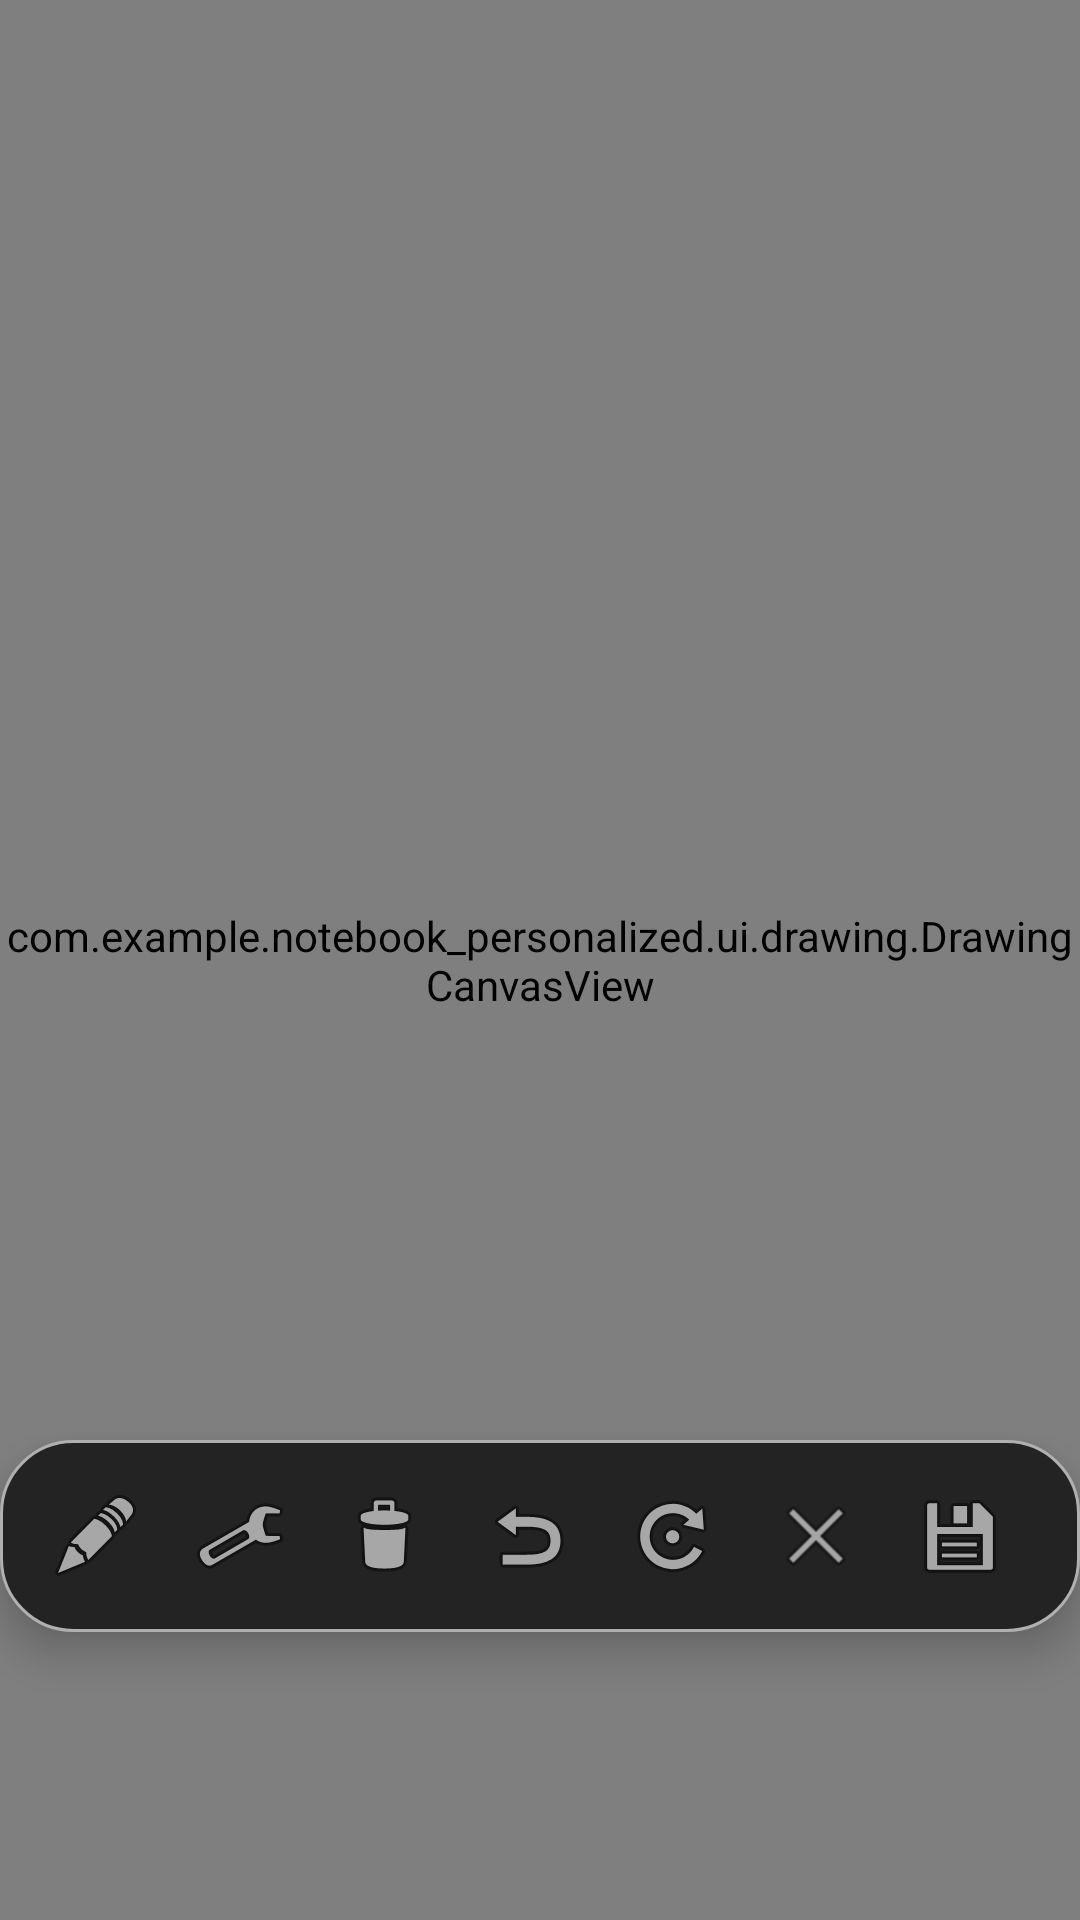

Point at icon controls on the screen. Image size 1080px x 1920px, points as point (x, y).
Deshacer: point (529, 1536)
Guardar/Exportar: point (960, 1536)
Rehacer: point (672, 1536)
